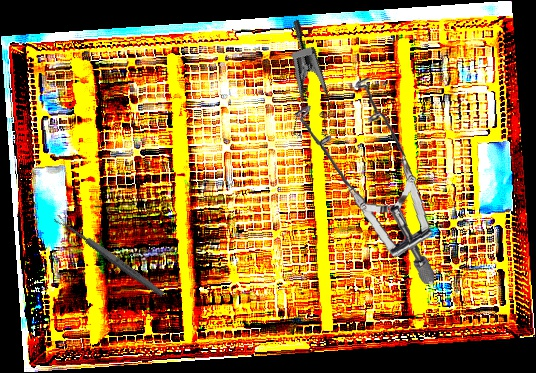Speculum: (281, 72, 451, 285), (247, 18, 353, 149)
Surgical Spoon: (53, 213, 166, 299)
